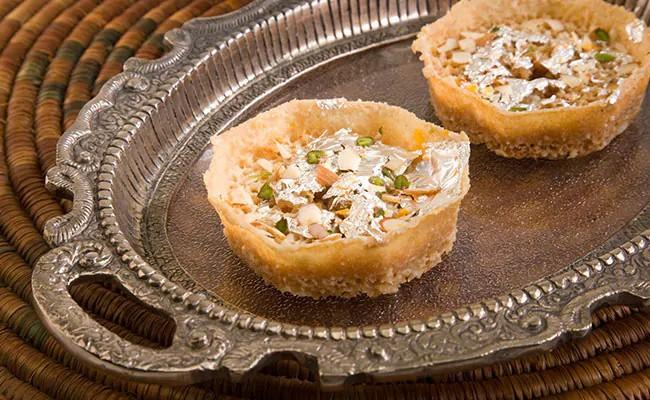Ghevar: (203, 95, 470, 299), (409, 0, 650, 156)
